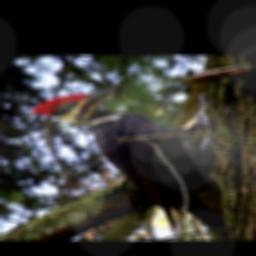Woodpecker: (27, 85, 233, 240)
